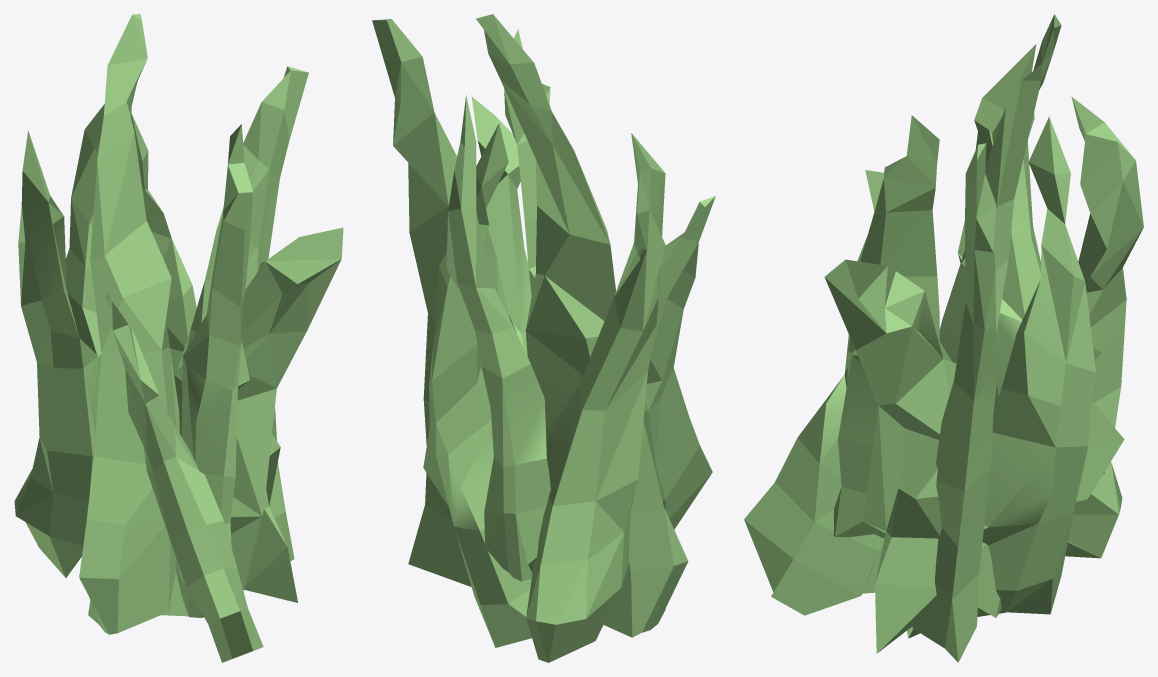
The model's file is wildGrass1.fbx.
The picture shows the model from 3 angles, left to right: view 1: azimuth 30°, elevation 25°; view 2: azimuth 150°, elevation 25°; view 3: azimuth 270°, elevation 25°; orthographic projection. The views are drawn at different scales.
Visible parts, largest first — view 1: group14_pCube57; view 2: group14_pCube57; view 3: group14_pCube57.
Part boxes in pixels (x1=…): group14_pCube57: x1=14, y1=14, x2=343, y2=662; group14_pCube57: x1=372, y1=14, x2=715, y2=662; group14_pCube57: x1=744, y1=14, x2=1143, y2=662.
Bounding box in the file's own units: 2.95 × 5.75 × 3.44.
